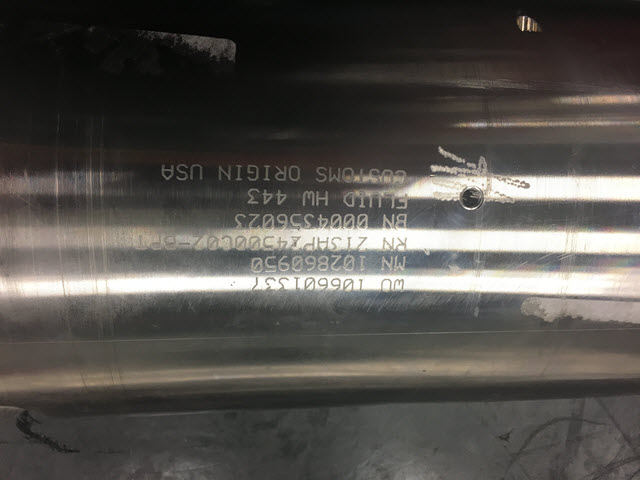character: (393, 211, 410, 234), (160, 160, 177, 183), (216, 163, 235, 182), (244, 163, 262, 183), (314, 212, 331, 233), (380, 210, 396, 232), (355, 210, 371, 232), (391, 253, 408, 273), (379, 253, 396, 273), (263, 254, 279, 275), (246, 186, 261, 208), (379, 235, 396, 254), (300, 189, 317, 208), (286, 164, 303, 183), (189, 163, 206, 182), (341, 190, 357, 210), (315, 275, 330, 296), (314, 164, 329, 185), (340, 276, 356, 295), (315, 189, 331, 208), (368, 189, 383, 209), (327, 164, 342, 184), (175, 163, 190, 183), (342, 211, 356, 232), (261, 187, 275, 208), (341, 254, 357, 272), (276, 254, 291, 273), (250, 255, 265, 274), (273, 164, 288, 183), (275, 187, 289, 207), (343, 235, 356, 256), (233, 161, 246, 182), (329, 254, 344, 272), (304, 254, 319, 272), (354, 236, 369, 254), (303, 274, 317, 293), (316, 253, 330, 272), (291, 254, 305, 273), (394, 235, 408, 254), (395, 191, 409, 210), (382, 191, 396, 210), (329, 212, 342, 232), (378, 277, 393, 294), (291, 274, 303, 295), (391, 277, 406, 293), (262, 163, 274, 183), (357, 189, 368, 210), (329, 274, 341, 293), (357, 254, 368, 272), (356, 276, 365, 294)
